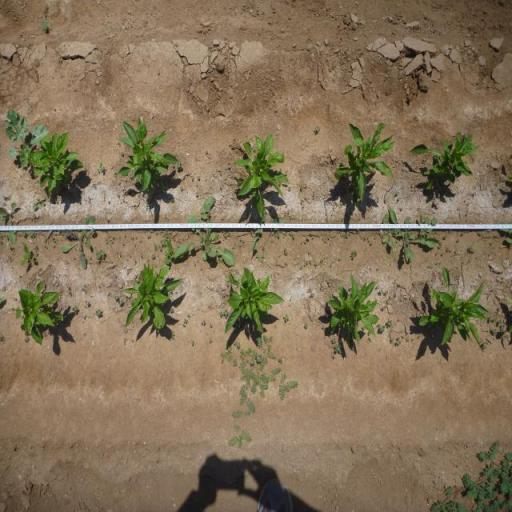plant: (418, 265, 491, 350), (333, 118, 398, 209), (117, 115, 177, 194), (233, 133, 289, 216), (223, 265, 285, 337), (328, 272, 380, 353), (409, 130, 478, 191), (123, 263, 184, 329), (30, 131, 84, 199), (15, 279, 64, 348)
weed: (217, 332, 301, 449), (428, 437, 512, 512), (173, 193, 236, 266), (1, 105, 50, 167), (388, 208, 439, 264), (60, 215, 96, 270), (250, 210, 286, 253), (380, 210, 405, 249), (0, 202, 19, 244), (417, 212, 439, 236), (20, 241, 34, 267), (164, 240, 174, 264), (32, 198, 46, 210), (96, 248, 106, 262), (480, 339, 490, 350), (99, 162, 107, 173), (256, 254, 265, 263), (340, 231, 350, 239), (334, 344, 342, 354), (233, 340, 241, 350), (378, 323, 386, 332), (163, 231, 171, 240), (106, 235, 114, 244), (177, 160, 184, 170), (66, 286, 73, 296), (351, 248, 357, 259), (498, 320, 506, 328), (28, 230, 36, 238), (21, 231, 29, 239), (386, 319, 393, 328), (396, 336, 402, 346), (489, 315, 496, 323), (283, 314, 290, 322), (96, 309, 103, 317), (171, 330, 176, 341), (72, 305, 78, 314), (0, 332, 5, 342), (492, 328, 498, 336), (438, 243, 444, 251), (314, 124, 320, 132), (304, 234, 310, 242), (278, 356, 284, 364), (283, 248, 288, 257), (224, 308, 228, 319), (274, 231, 280, 238), (226, 230, 232, 237), (50, 236, 57, 242), (469, 247, 475, 253), (394, 190, 400, 196), (396, 196, 402, 202), (368, 336, 374, 342), (222, 232, 228, 238), (160, 239, 166, 245), (118, 300, 124, 306), (201, 320, 207, 326), (84, 300, 90, 306), (2, 194, 8, 200), (331, 337, 336, 344), (114, 294, 119, 301), (310, 232, 314, 240), (386, 298, 391, 304), (378, 289, 384, 294), (444, 234, 449, 240), (310, 292, 315, 298), (323, 237, 328, 243), (128, 173, 134, 178), (248, 332, 253, 338), (390, 337, 394, 344), (380, 306, 387, 310), (300, 184, 304, 191), (24, 336, 28, 343), (154, 242, 157, 251), (456, 249, 460, 255), (320, 258, 324, 264), (278, 168, 284, 172), (292, 234, 296, 240), (262, 246, 265, 254), (184, 318, 188, 324), (220, 358, 224, 364), (368, 240, 372, 245), (204, 150, 208, 155), (8, 244, 12, 249), (385, 290, 388, 296), (152, 253, 155, 259), (83, 314, 86, 320), (35, 250, 38, 256), (461, 232, 465, 236), (147, 234, 151, 238), (140, 252, 142, 260), (170, 308, 174, 312), (186, 314, 190, 318), (457, 238, 460, 243), (338, 257, 341, 262), (362, 326, 365, 331), (305, 323, 308, 328), (458, 205, 460, 212), (220, 311, 222, 318), (498, 307, 500, 313), (310, 259, 312, 265), (322, 326, 325, 330), (222, 292, 224, 298), (288, 187, 292, 190), (160, 246, 162, 252), (181, 187, 184, 191), (198, 174, 200, 180), (192, 176, 194, 182), (210, 338, 212, 344), (192, 340, 194, 346), (210, 323, 212, 328), (121, 152, 124, 155), (316, 262, 318, 266), (284, 233, 286, 237), (196, 192, 198, 196), (309, 250, 310, 254), (290, 232, 292, 234)
